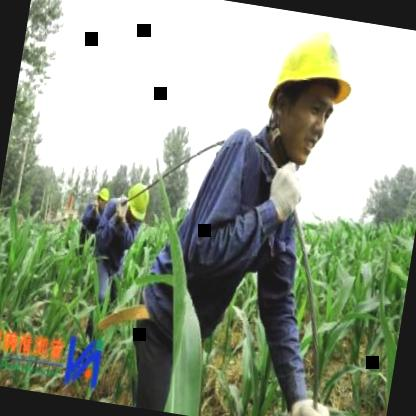helmet: (247, 7, 370, 182), (120, 178, 150, 227), (93, 184, 112, 213)
